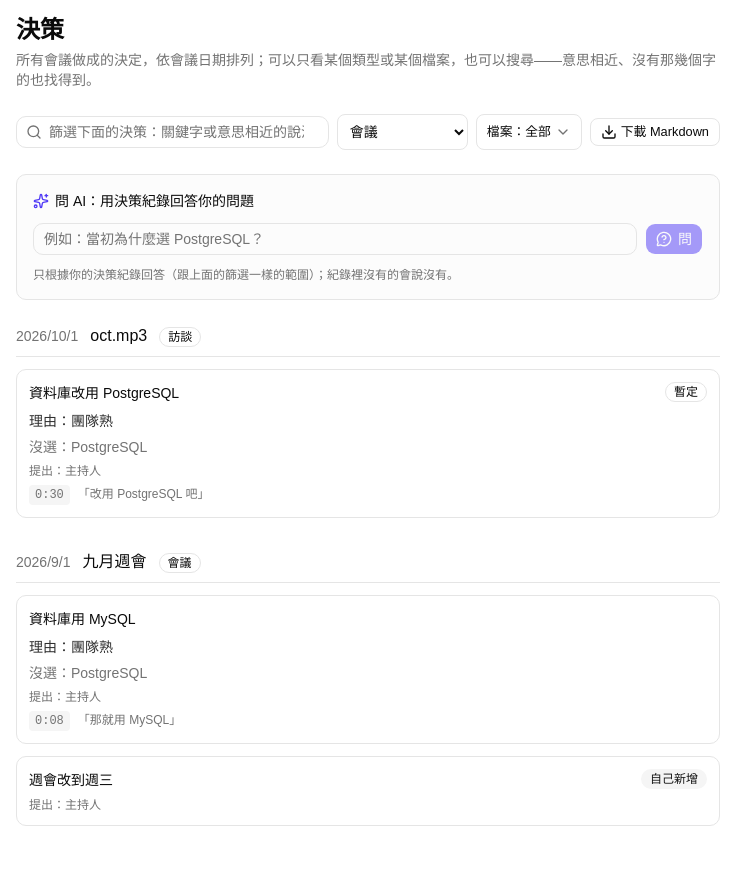
Scenario: DecisionsPage › answers a question only from the decisions, showing what the answer is based on
Type "當初為什麼選 MySQL？" into the field named "問決策" at (335, 239), box [33,223,637,255]
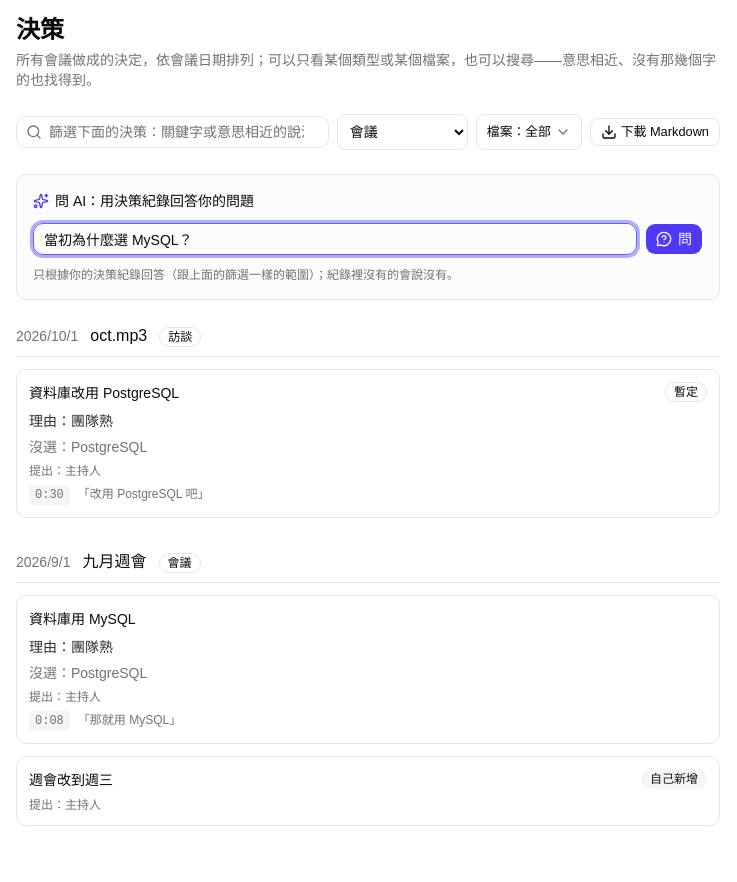
Click the button "問" at (674, 239), box [645,223,703,255]
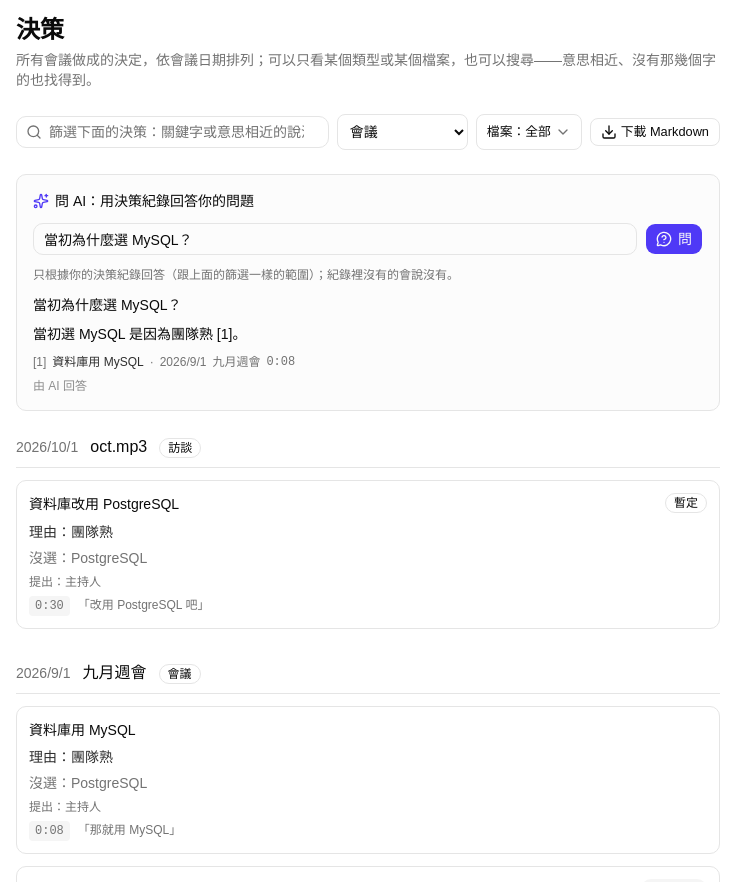
Expected: the text "當初選 MySQL 是因為團隊熟 [1]。" is shown, [33,326,246,342]
Expected: the list item "[1] 資料庫用 MySQL · 2026/9/1 九月週會 0:08" is shown, [33,355,295,369]
Expected: the element titled "模型：qwen3:14b" is shown, [33,378,87,394]
